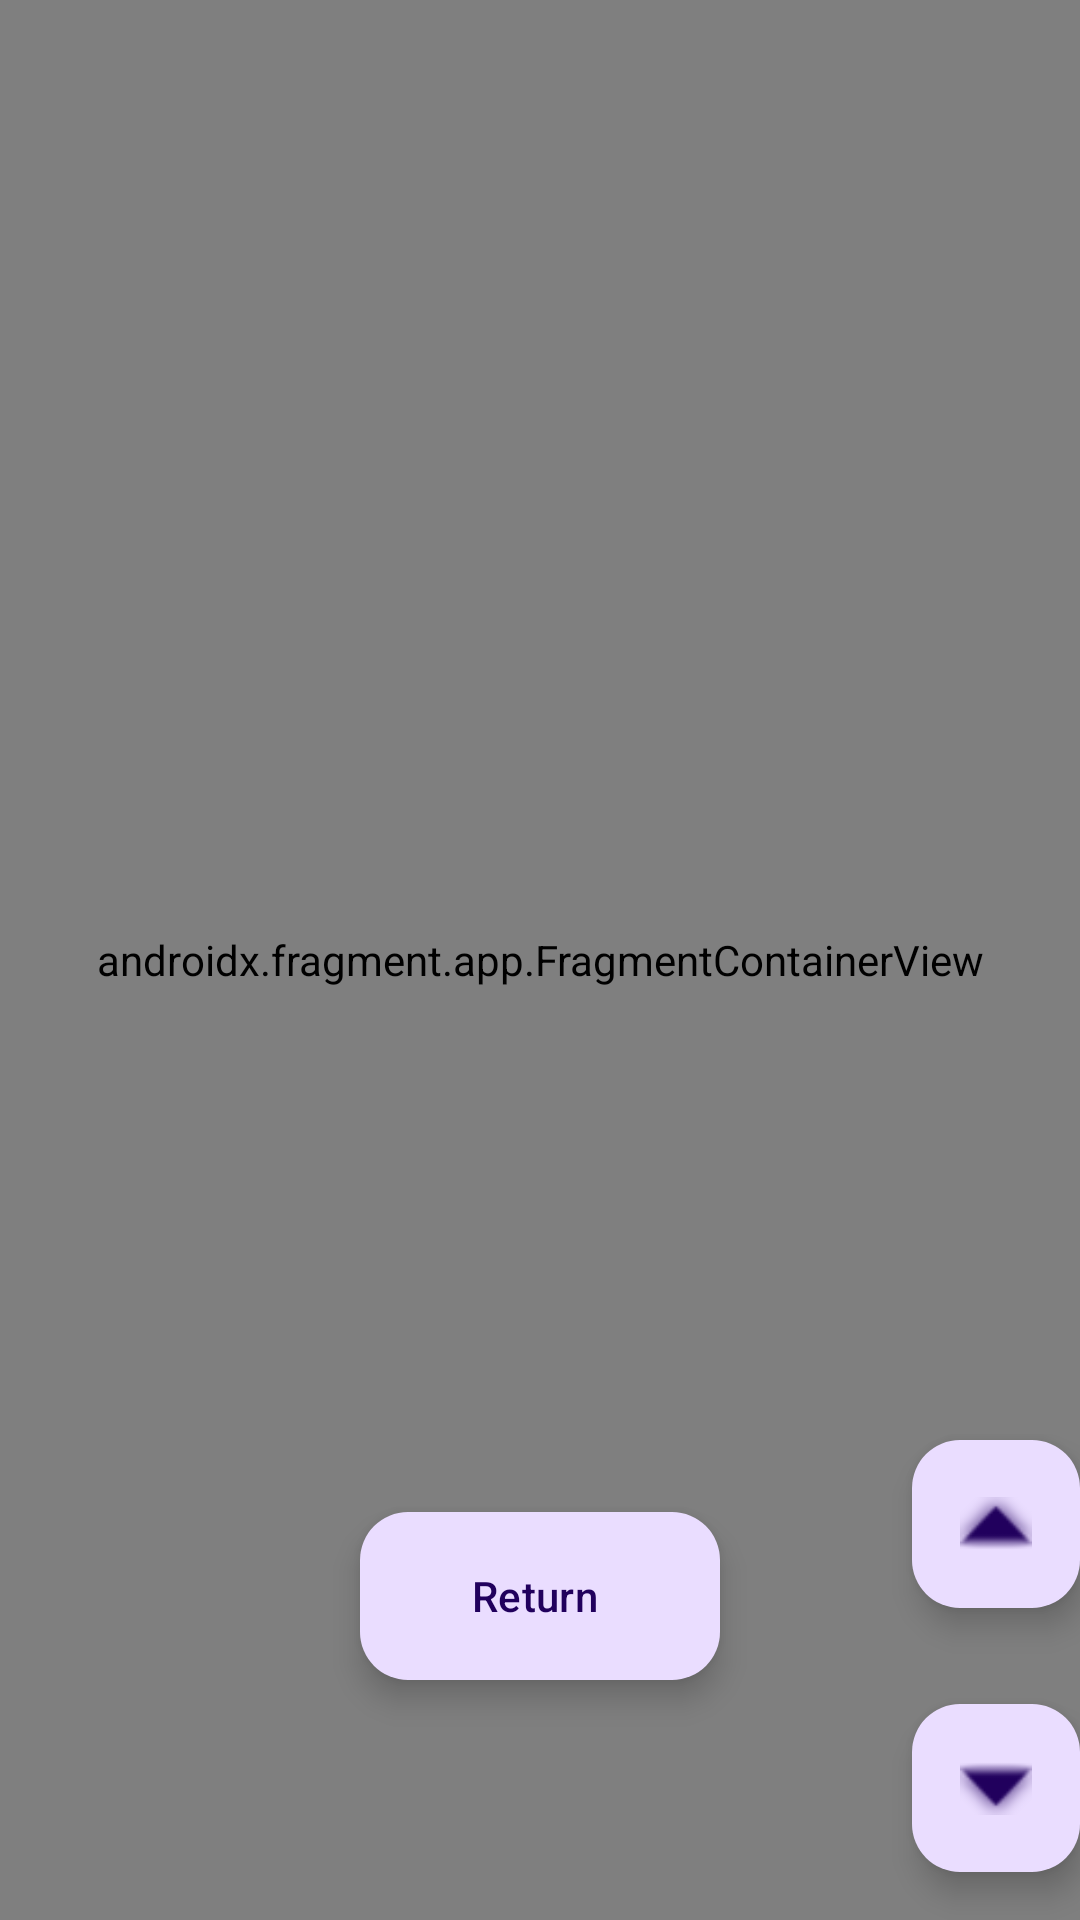

Screen size 1080x1920. Icon name, then its center in pixels as point (x, y):
Floor Down button: point (996, 1788)
Floor Up button: point (996, 1524)
